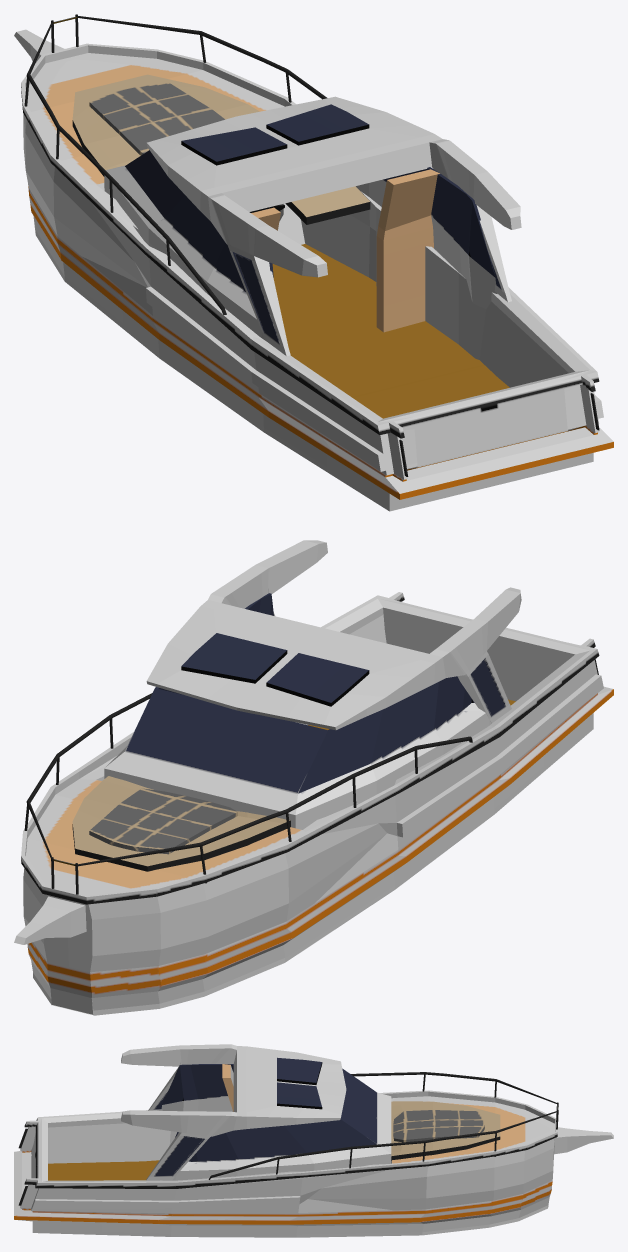
Rendered from yacth.glb.
The picture shows the model from 3 angles, top to bottom: view 1: azimuth 30°, elevation 25°; view 2: azimuth 150°, elevation 25°; view 3: azimuth 270°, elevation 25°; orthographic projection. The views are drawn at different scales.
Parts seen in each view (by area): view 1: Boat_0; view 2: Boat_0; view 3: Boat_0.
Boxes of the visible parts, <box> form: Boat_0: <box>14,14,613,511</box>; Boat_0: <box>14,540,613,1015</box>; Boat_0: <box>14,1044,613,1237</box>.
Bounding box in the file's own units: 2.94 × 2.18 × 9.7.
1 material, 1 textured.
